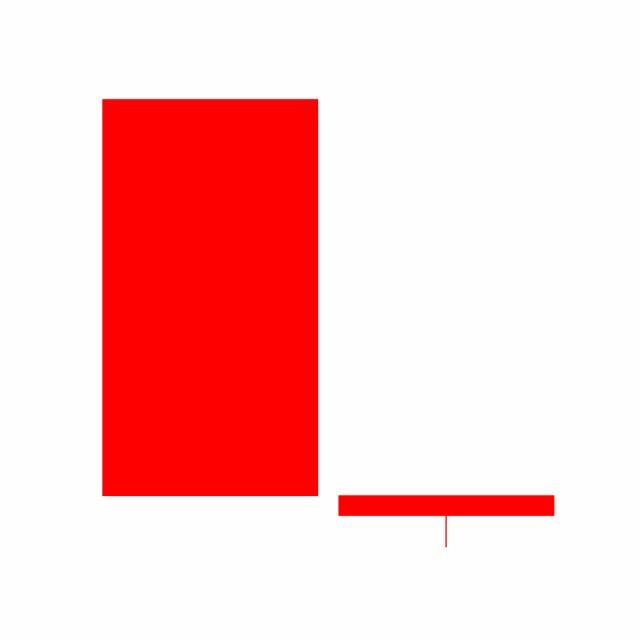Hammer: (328, 494, 566, 549)
